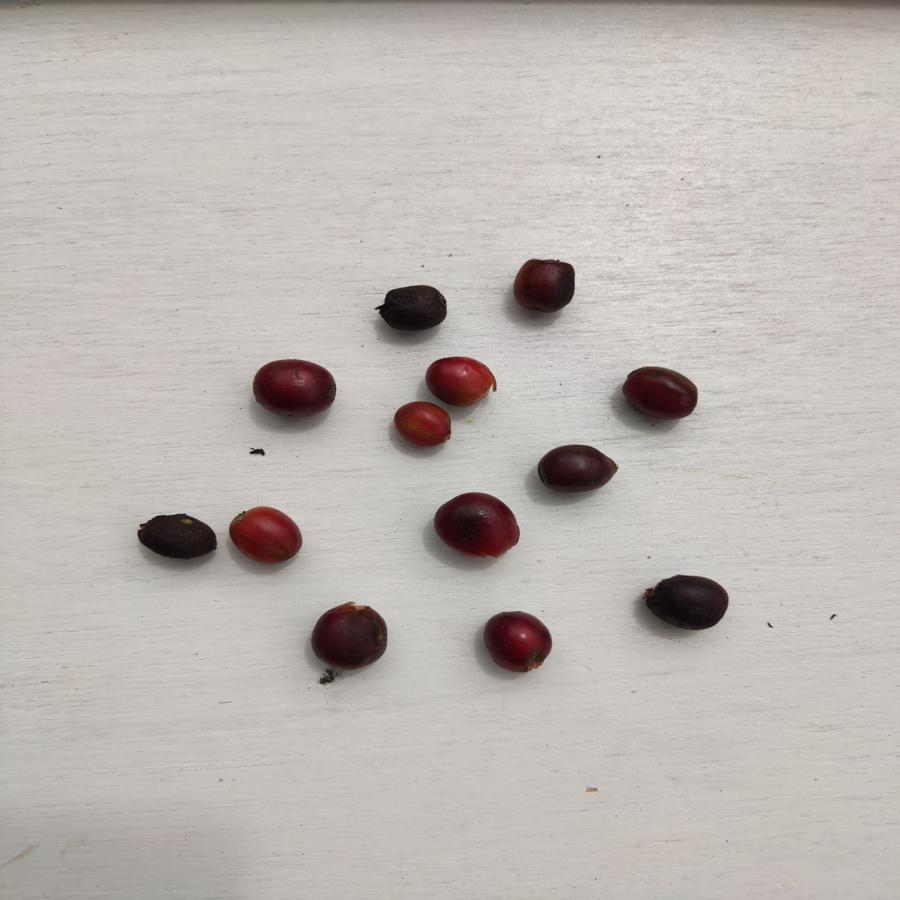Maduro: (228, 506, 308, 566), (424, 354, 497, 404), (393, 398, 456, 450)
Sobremaduro: (431, 492, 525, 560), (250, 356, 339, 427), (135, 507, 225, 570), (309, 602, 391, 671), (642, 572, 730, 633), (481, 608, 554, 674), (535, 442, 620, 496), (509, 254, 577, 314), (626, 366, 697, 422), (379, 283, 451, 335)
